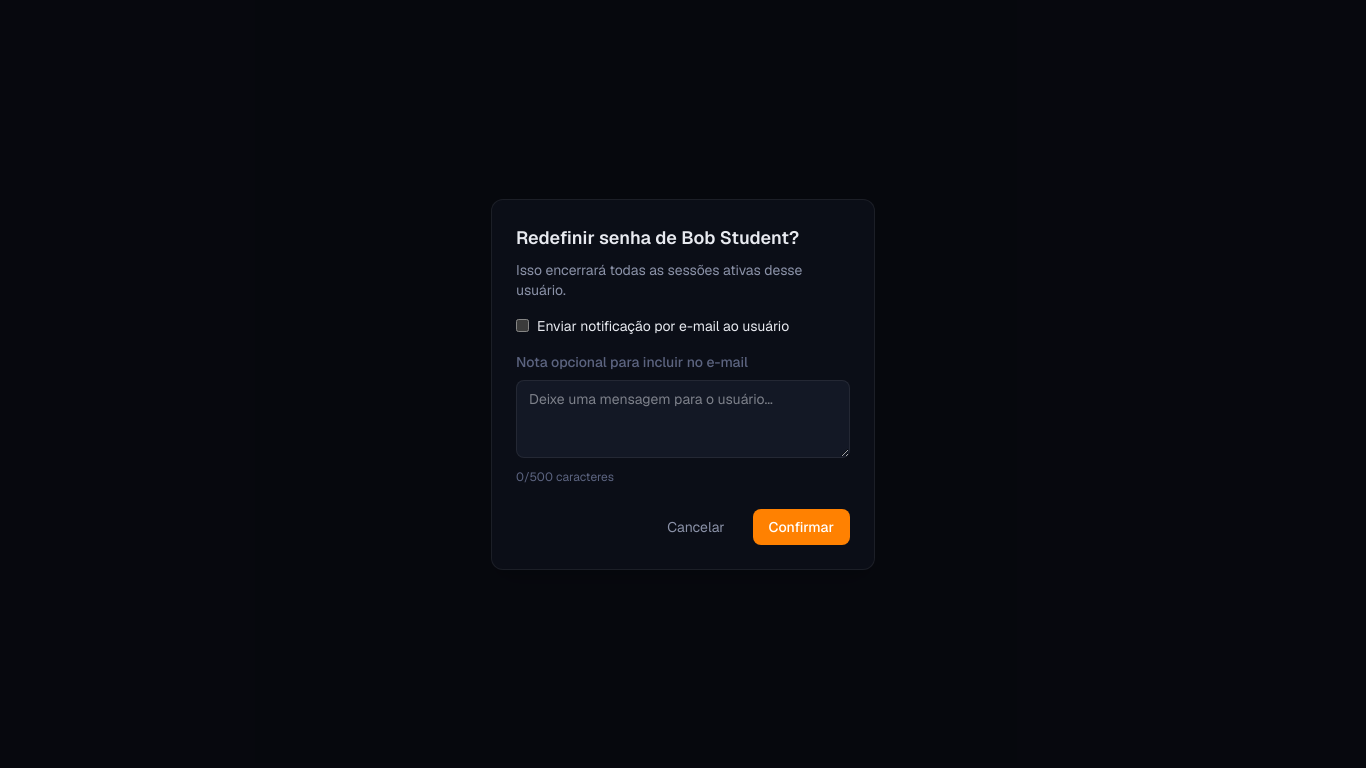
Test: ResetPasswordModal › error handling › displays specific error message for 403 Forbidden
The width and height of the screenshot is (1366, 768).
Click the button "Confirmar".
click(801, 526)  # box x1=753 y1=508 x2=850 y2=544
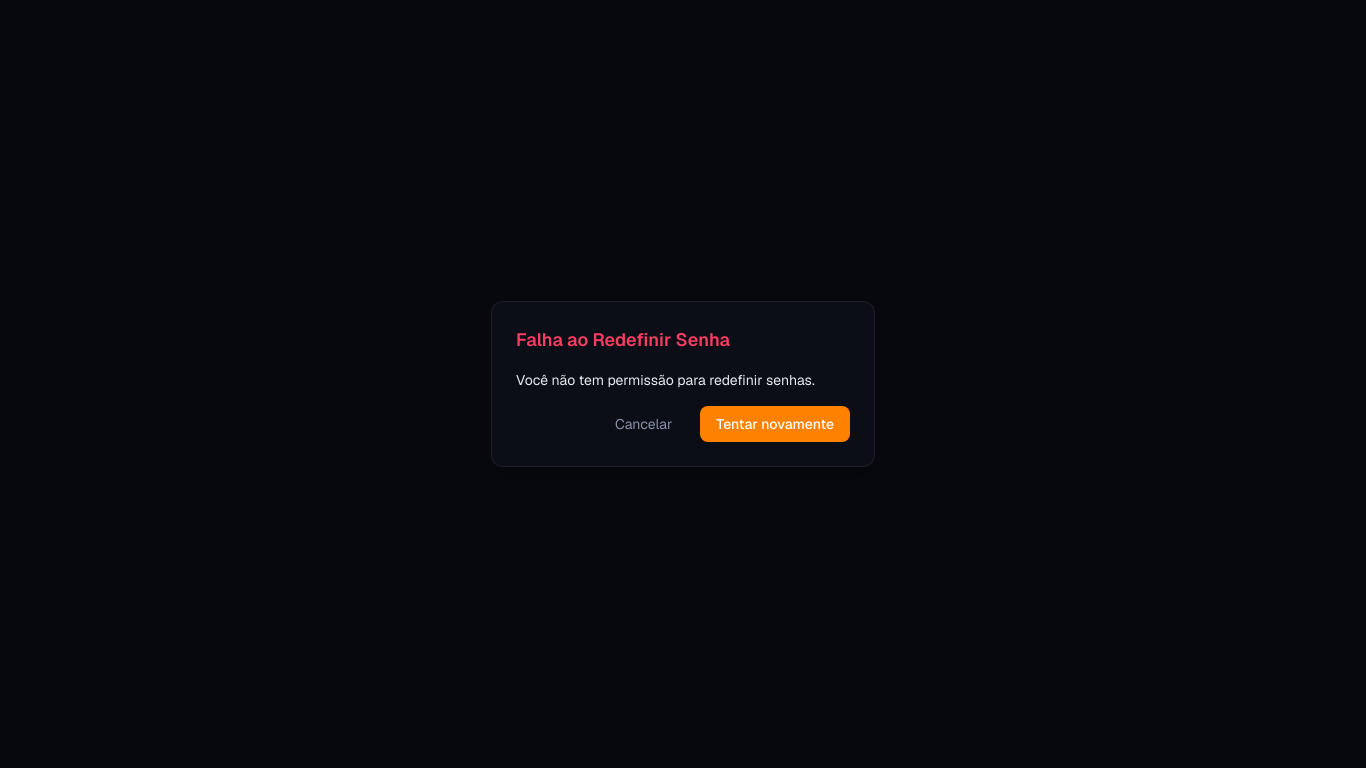
Check: the heading "Falha ao Redefinir Senha" is shown, box x1=516 y1=328 x2=730 y2=351
Check: the text "Você não tem permissão para redefinir senhas." is shown, box x1=516 y1=370 x2=850 y2=390
